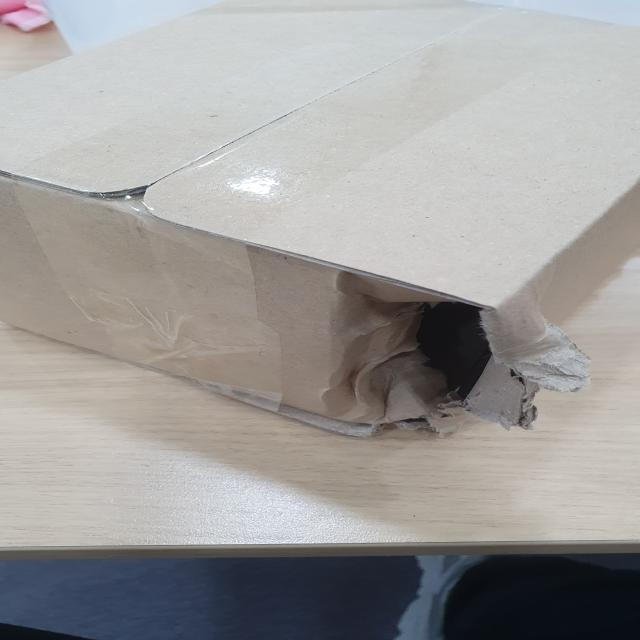hole: (327, 261, 525, 435)
